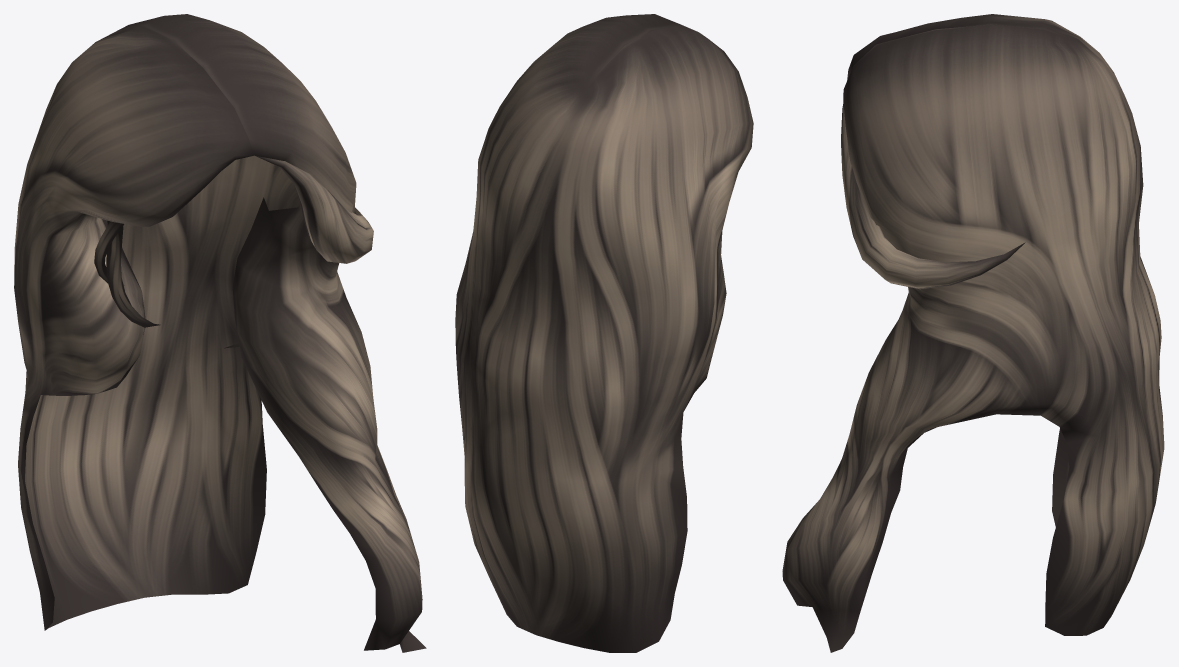
Rendered from HairtStyle_02.fbx.
The picture shows the model from 3 angles, left to right: view 1: azimuth 30°, elevation 25°; view 2: azimuth 150°, elevation 25°; view 3: azimuth 270°, elevation 25°; orthographic projection. The views are drawn at different scales.
Visible parts, largest first — view 1: Hairstyle3; view 2: Hairstyle3; view 3: Hairstyle3.
Boxes of the visible parts, box(x1,y1,x2,y2) form: Hairstyle3: box(14, 14, 426, 652); Hairstyle3: box(455, 14, 753, 652); Hairstyle3: box(782, 14, 1164, 652).
Size of the model in its own units: 0.1958 by 0.4006 by 0.2364.
